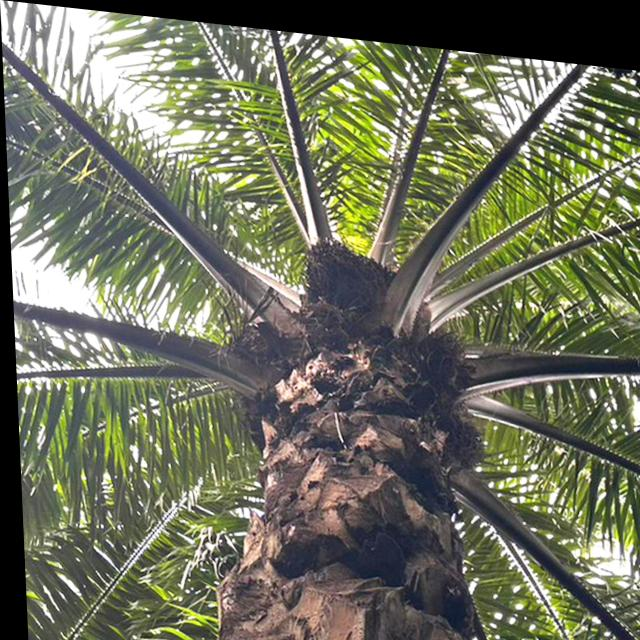almost: (295, 227, 395, 317)
